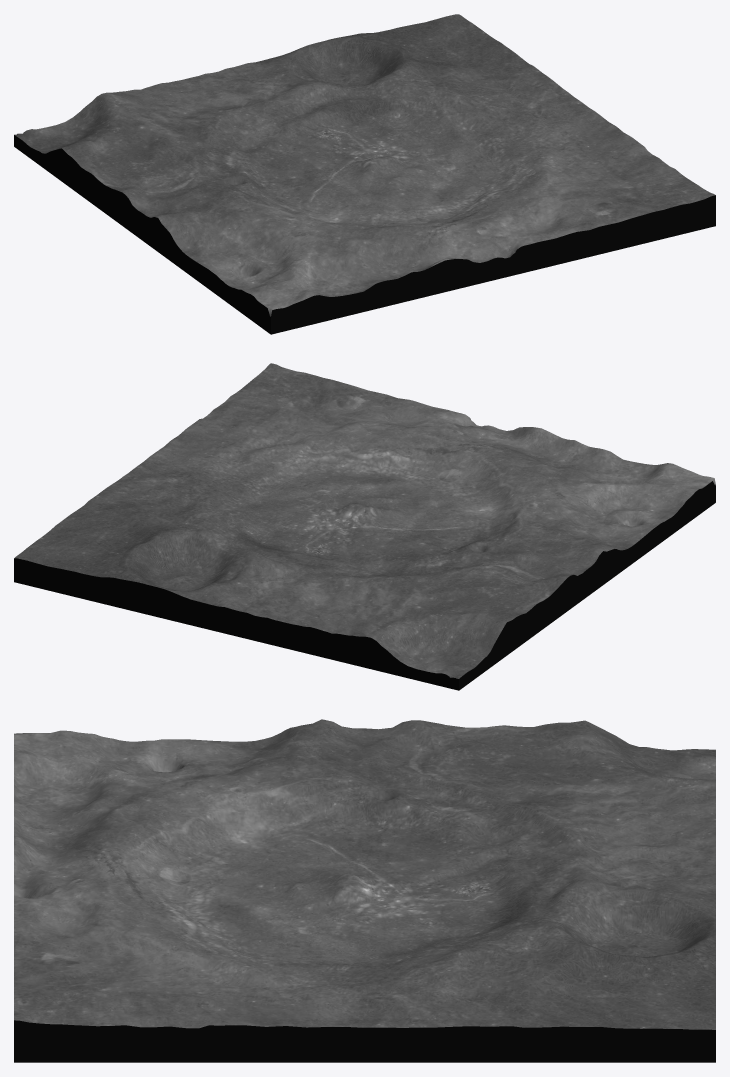
The model's file is moon_-_petavius_crater_optimized.glb.
3 renders of one model, top to bottom at view 1: azimuth 30°, elevation 25°; view 2: azimuth 150°, elevation 25°; view 3: azimuth 270°, elevation 25°, orthographic. The views are drawn at different scales.
Parts seen in each view (by area): view 1: Petavius_ZB_LP; view 2: Petavius_ZB_LP; view 3: Petavius_ZB_LP.
Part boxes in pixels (x1,y1,x2,y2): Petavius_ZB_LP: (14, 14, 715, 334); Petavius_ZB_LP: (14, 363, 715, 690); Petavius_ZB_LP: (14, 719, 715, 1062).
Size of the model in its own units: 2.22 by 0.1829 by 2.22.
2 materials, 1 textured.
